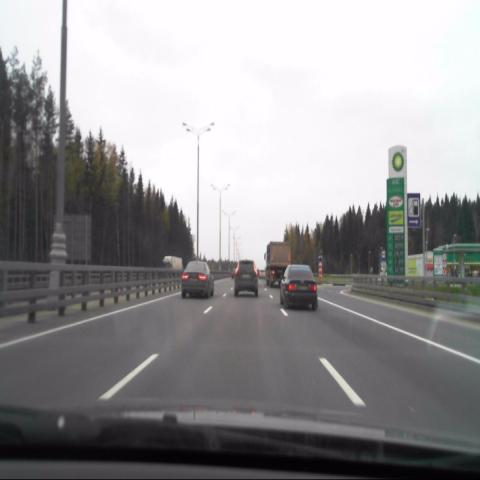7_3: (407, 194, 420, 228)
